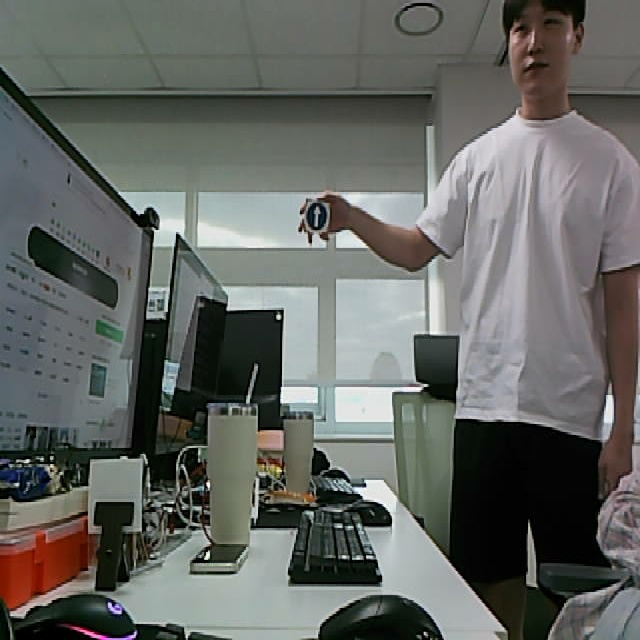straight: (302, 198, 332, 235)
